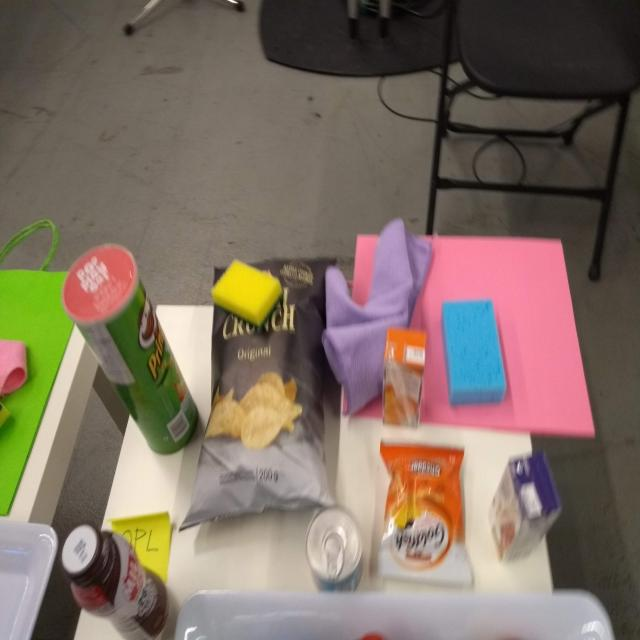chocolate_drink: (59, 521, 172, 640)
cloth_opl: (319, 216, 438, 422)
crackers: (371, 439, 477, 590)
grape_juice: (484, 448, 564, 569)
orange_juice: (379, 324, 429, 432)
potato_chips: (178, 251, 343, 536)
pringles: (61, 238, 201, 461)
sausages: (304, 501, 367, 601)
scrubby: (207, 255, 281, 329)
sponge_opl: (435, 296, 510, 409)
